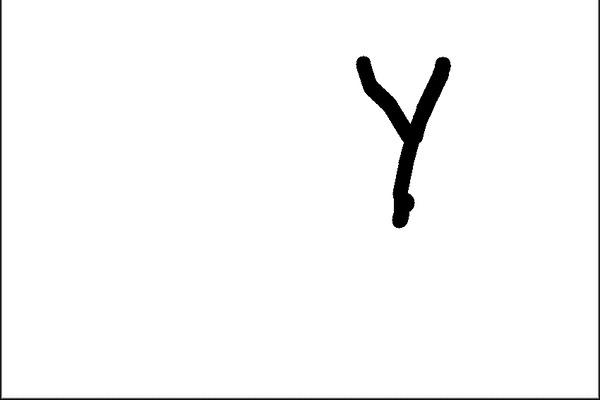Y: (339, 45, 456, 250)
